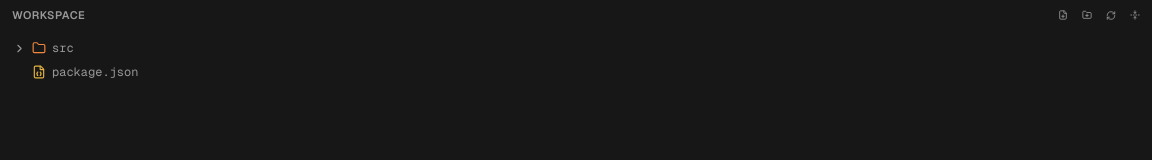
Scenario: FileExplorer context menus › rejects duplicate names with an inline error before hitting the backend
Expected: the text "src" is shown, [52,40,74,56]
Right-click the element with class "file-explorer" at [49, 15], box [12,4,1146,80]
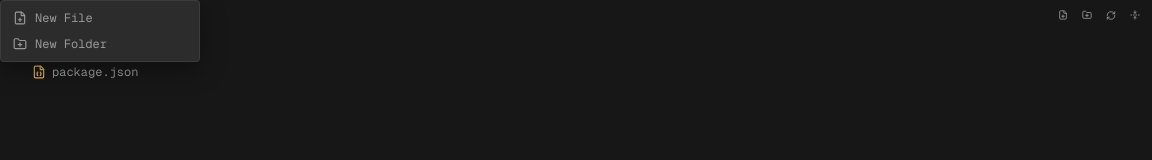
Click the menu item "New Folder" at [100, 44], box [5,31,195,57]
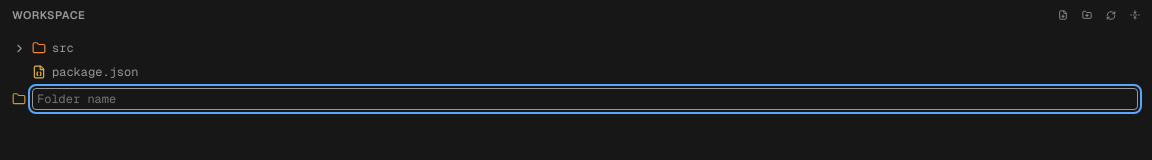
Type "src" into the field named "New folder name" at [585, 99], box [32,88,1138,110]
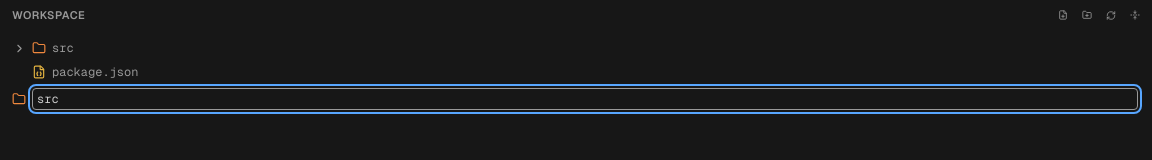
Press Enter in the field named "New folder name", box [32,88,1138,110]
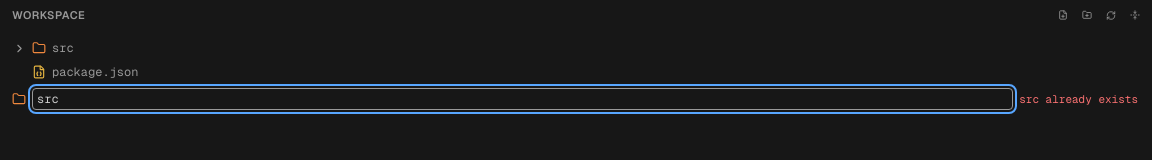
Expected: the text "src already exists" is shown, [1019,92,1138,106]
